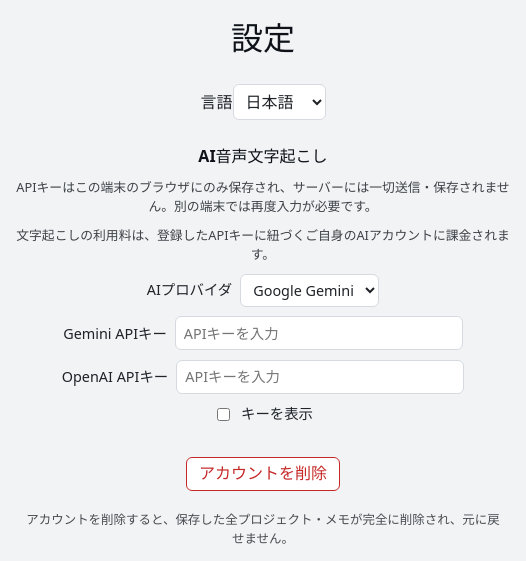
Test: SettingsPage › 言語を英語に切り替えるとUIが英語になりFirestoreに保存される
Select "English" in the dropdown labelled "言語" at (279, 102), box x1=232 y1=84 x2=326 y2=120
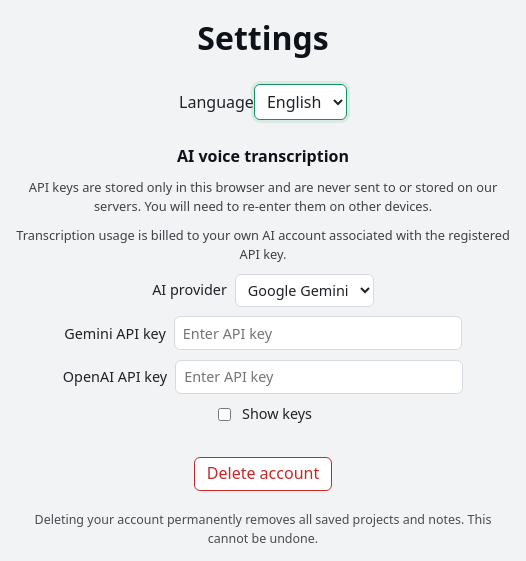
Check: the heading "Settings" is shown, box x1=197 y1=16 x2=329 y2=59
